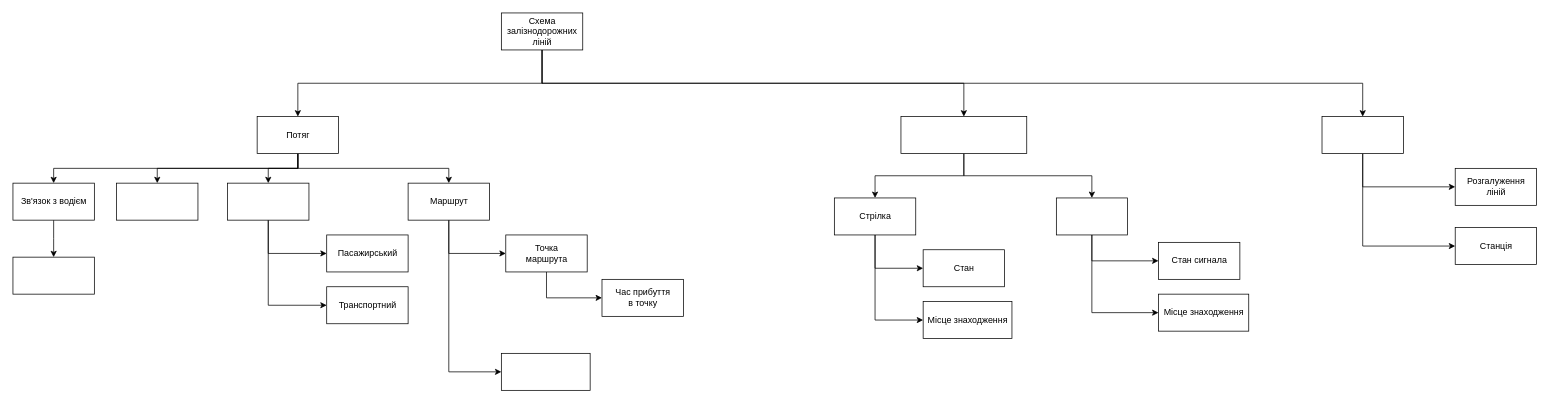
Image size: 1550x403. Some labels were removed from this diagram. Here are the shapes that lost their labels. From the top down, the centre of each, then its label:
At (963,135): "Елемент інфраструктури".
At (1362,135): "Точка маршруту".
At (157,201): "Швидкість".
At (268,201): "Тип".
At (1091,216): "Сигнал".
At (53,275): "Тип зв'язку".
At (545,371): "Місце знаходження на маршруті".
